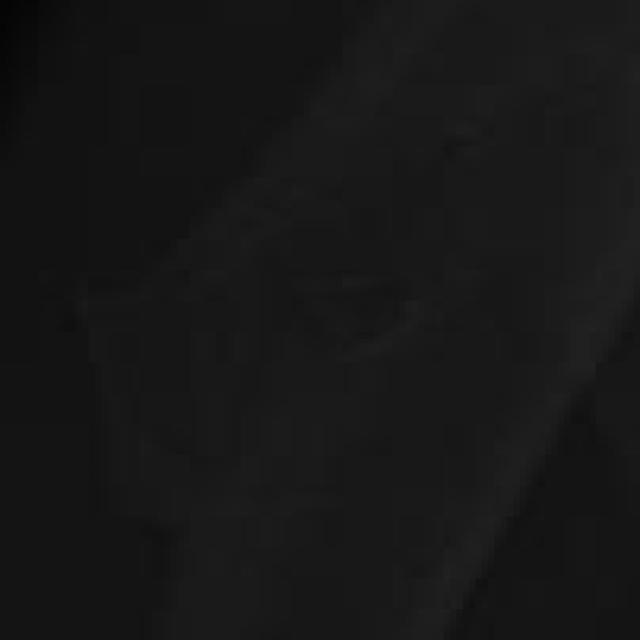fracture: (5, 0, 640, 640)
